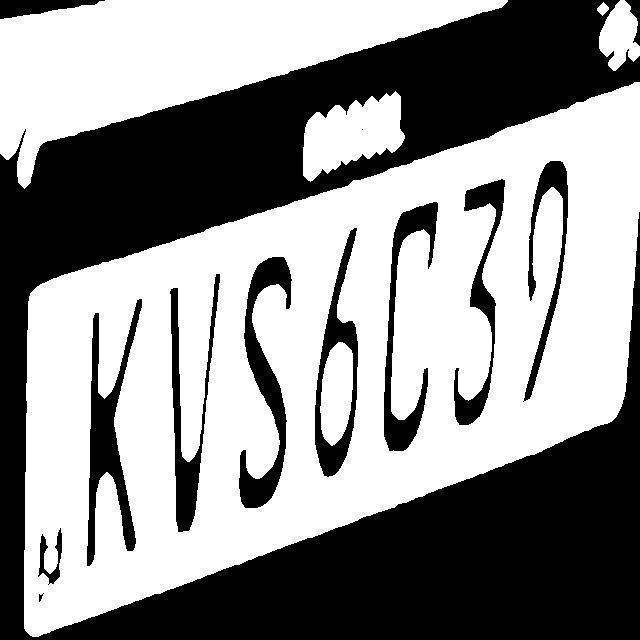3: (448, 174, 511, 432)
6: (312, 225, 365, 480)
9: (523, 158, 571, 411)
c: (382, 197, 442, 454)
k: (85, 296, 146, 564)
s: (236, 254, 295, 511)
v: (167, 273, 223, 542)
